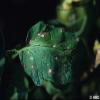Tomato Septoria leaf spot: (12, 22, 93, 92)
